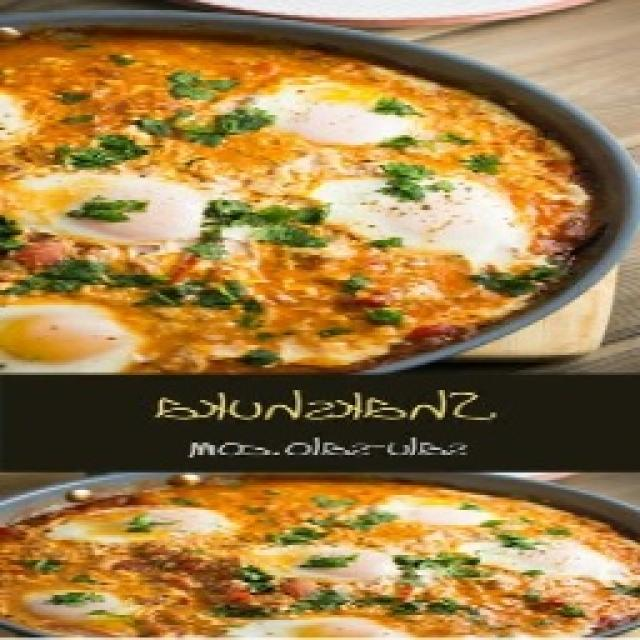Chakchouka: (0, 25, 602, 378), (0, 472, 640, 640)
